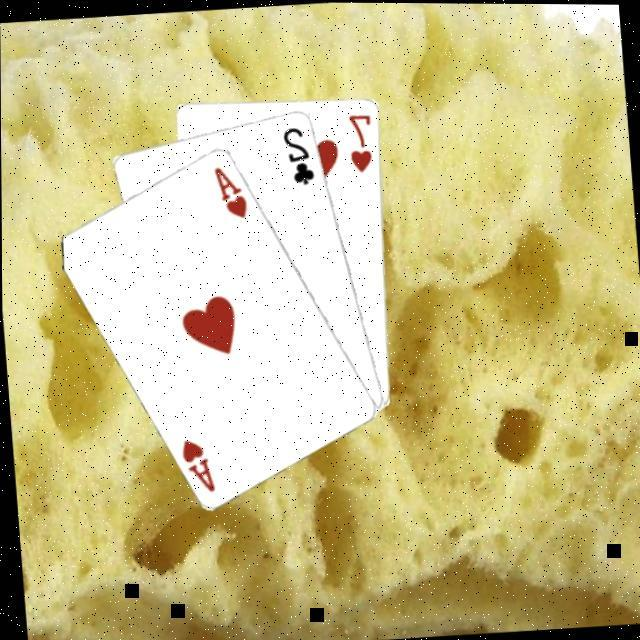2C: (280, 119, 318, 185)
7H: (346, 106, 378, 172)
AH: (177, 432, 218, 493), (210, 160, 251, 220)
